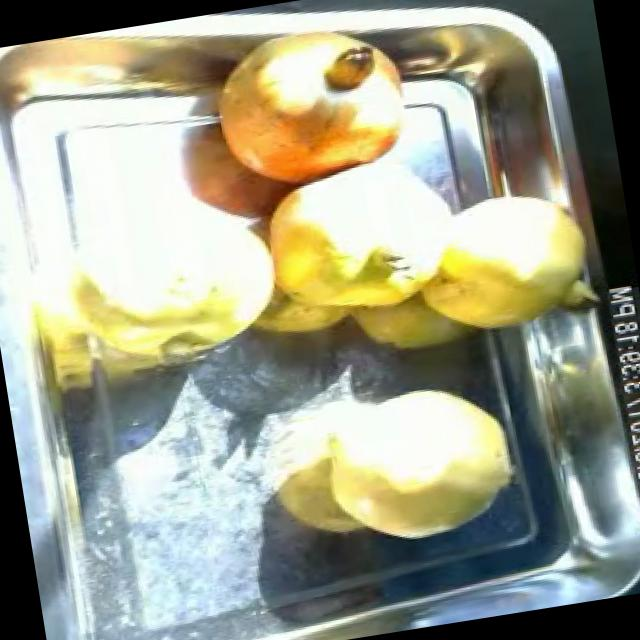fruit: (53, 183, 304, 394), (291, 357, 534, 563), (190, 6, 425, 205), (243, 148, 474, 342), (398, 175, 606, 353)
